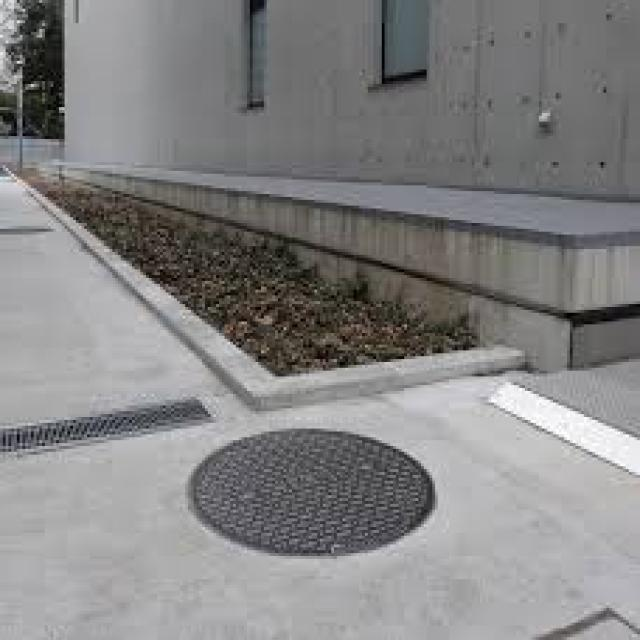manhole: (189, 429, 435, 556)
